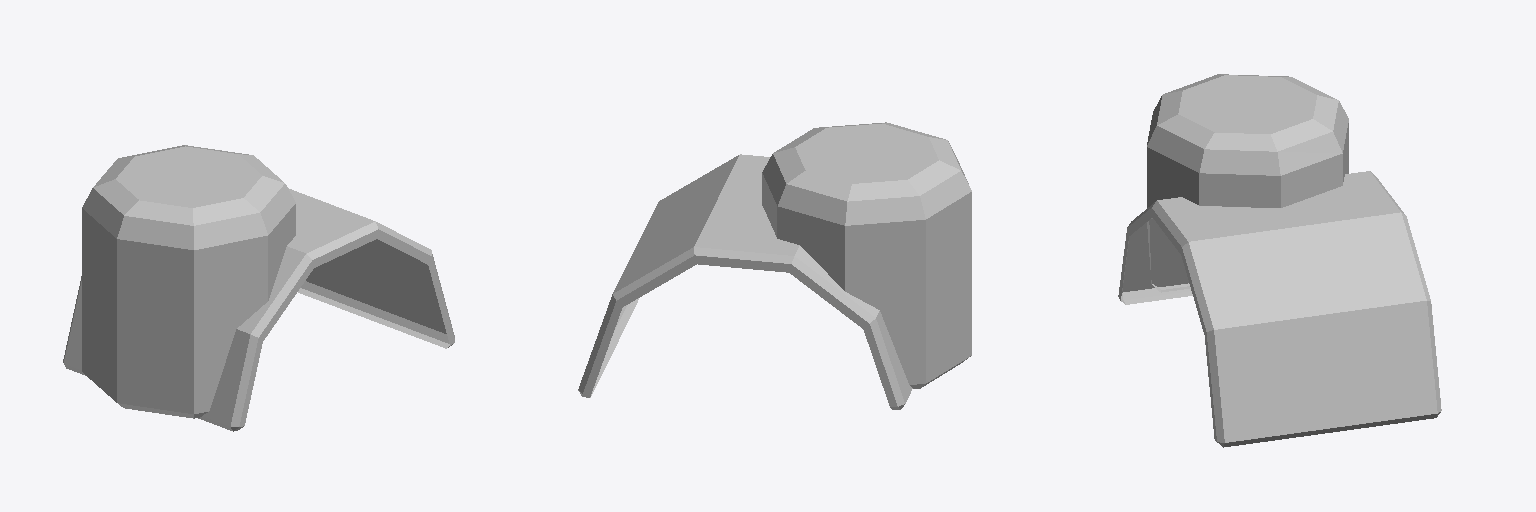
The picture shows the model from 3 angles: view 1: azimuth 30°, elevation 25°; view 2: azimuth 150°, elevation 25°; view 3: azimuth 270°, elevation 25°; orthographic projection.
Parts seen in each view (by area): view 1: part3:caster 3; view 2: part3:caster 3; view 3: part3:caster 3.
Part boxes in pixels (x1,y1,x2,y2): part3:caster 3: (63, 145, 454, 431); part3:caster 3: (578, 122, 971, 409); part3:caster 3: (1118, 74, 1441, 447).
Bounding box in the file's own units: 0.056 × 0.0345 × 0.0457.